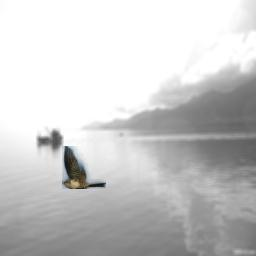Cuckoo: (62, 146, 106, 189)
